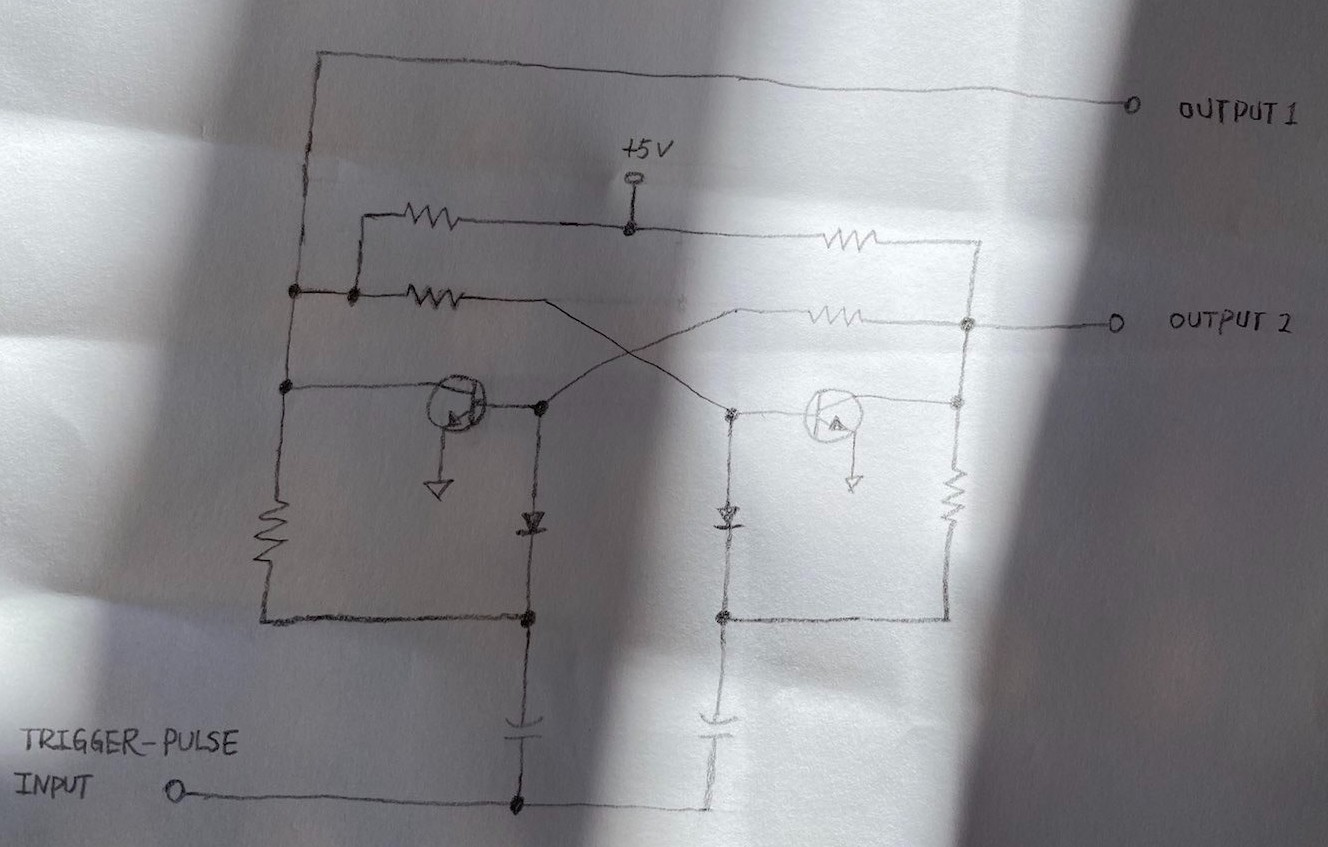capacitor.unpolarized: (691, 709, 747, 745), (498, 714, 552, 744)
diode: (710, 502, 749, 539), (514, 505, 549, 544)
gnd: (420, 472, 460, 509), (841, 469, 867, 499)
junction: (495, 786, 539, 823), (708, 599, 747, 635), (508, 601, 546, 634), (689, 792, 729, 820), (944, 382, 974, 418), (717, 394, 745, 431), (248, 601, 278, 635), (610, 338, 644, 368), (934, 602, 962, 636), (271, 372, 301, 402), (955, 308, 984, 339), (340, 278, 368, 310), (616, 214, 645, 242), (279, 276, 307, 305), (724, 297, 751, 326), (962, 231, 992, 256), (528, 393, 555, 420), (310, 39, 333, 68), (536, 287, 557, 313), (352, 205, 375, 227)
resistor: (249, 495, 294, 572), (396, 197, 468, 235), (397, 278, 471, 313), (819, 223, 884, 255), (939, 463, 969, 530), (805, 299, 868, 330)
terminal: (157, 773, 203, 815), (1099, 303, 1131, 345), (1111, 87, 1147, 123), (618, 165, 650, 201)
text: (15, 723, 246, 763), (1174, 92, 1307, 134), (1165, 302, 1304, 342), (10, 768, 102, 807), (617, 129, 676, 163)
transistor: (424, 369, 490, 438), (800, 386, 869, 446)
